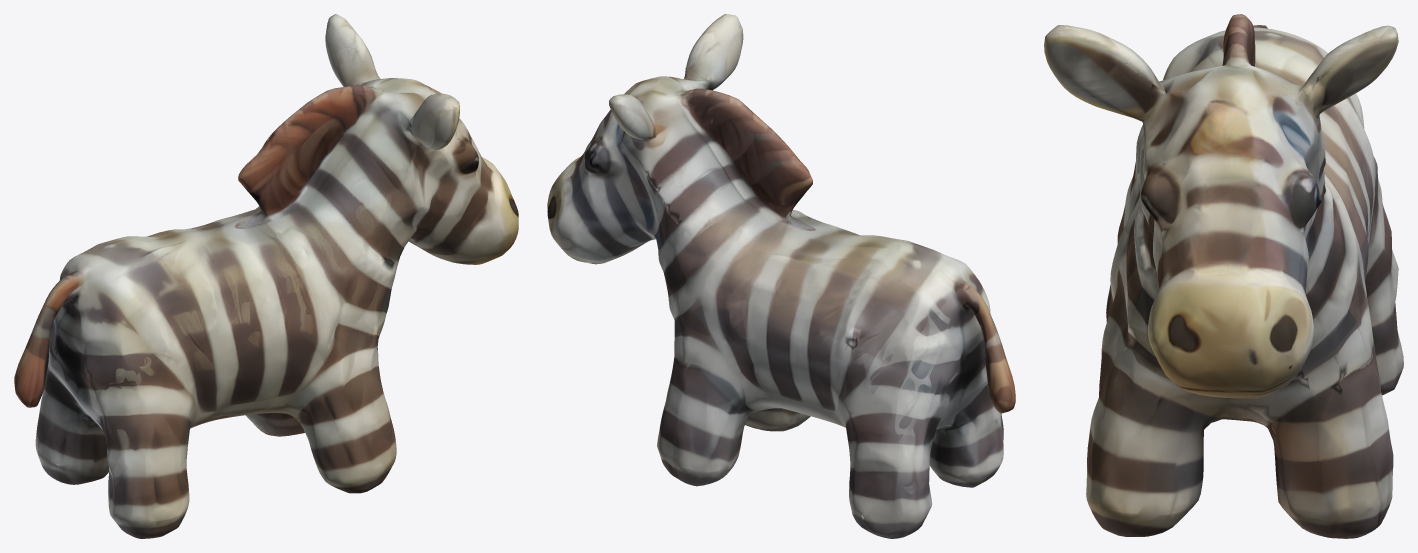
File: Plushie Zebra by Dragonstudio_pro.fbx
3 renders of one model, left to right at view 1: azimuth 30°, elevation 25°; view 2: azimuth 150°, elevation 25°; view 3: azimuth 270°, elevation 25°, orthographic. The views are drawn at different scales.
Parts seen in each view (by area): view 1: Mesh_0; view 2: Mesh_0; view 3: Mesh_0.
Part boxes in pixels (x1,y1,x2,y2): Mesh_0: (14, 14, 518, 538); Mesh_0: (547, 14, 1015, 538); Mesh_0: (1044, 14, 1403, 538).
Bounding box in the file's own units: 120 × 93.42 × 54.82.
1 material, 1 textured.
